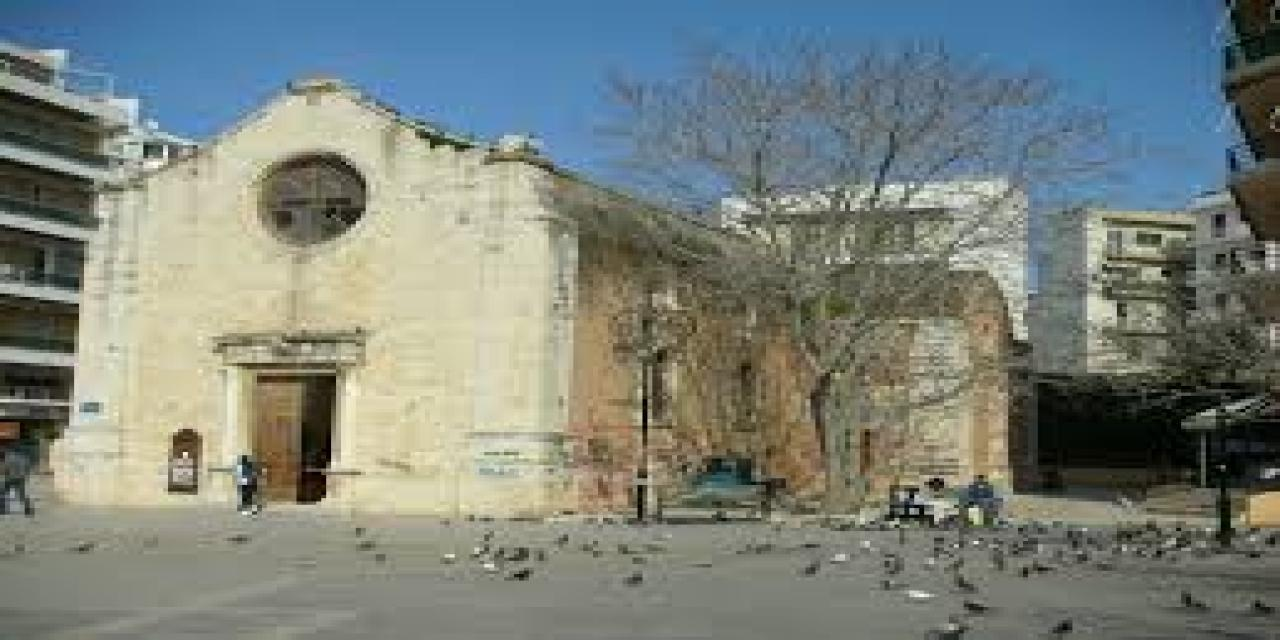Agia Aikaterini: (80, 75, 997, 541)
